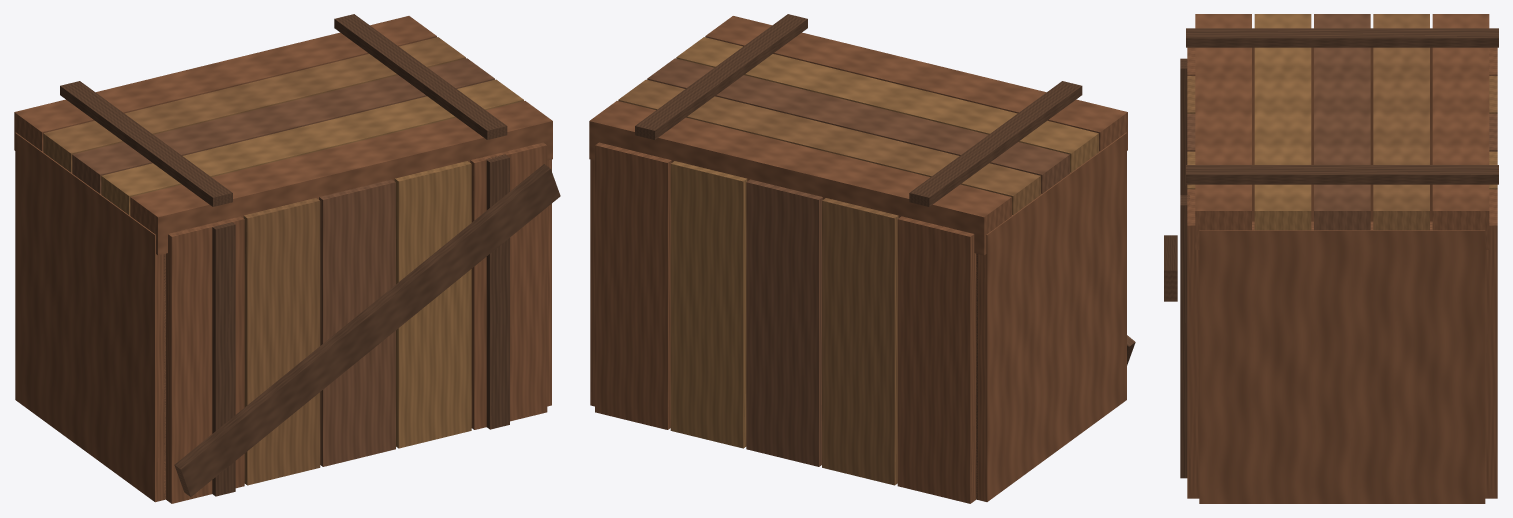
File: crate.glb
3 renders of one model, left to right at view 1: azimuth 30°, elevation 25°; view 2: azimuth 150°, elevation 25°; view 3: azimuth 270°, elevation 25°, orthographic. The views are drawn at different scales.
Parts seen in each view (by area): view 1: crate; view 2: crate; view 3: crate.
Part boxes in pixels (x1=…): crate: x1=14, y1=14, x2=560, y2=503; crate: x1=589, y1=14, x2=1135, y2=503; crate: x1=1164, y1=14, x2=1498, y2=503.
Bounding box in the file's own units: 0.7 × 0.5 × 0.5.
1 material, 1 textured.
